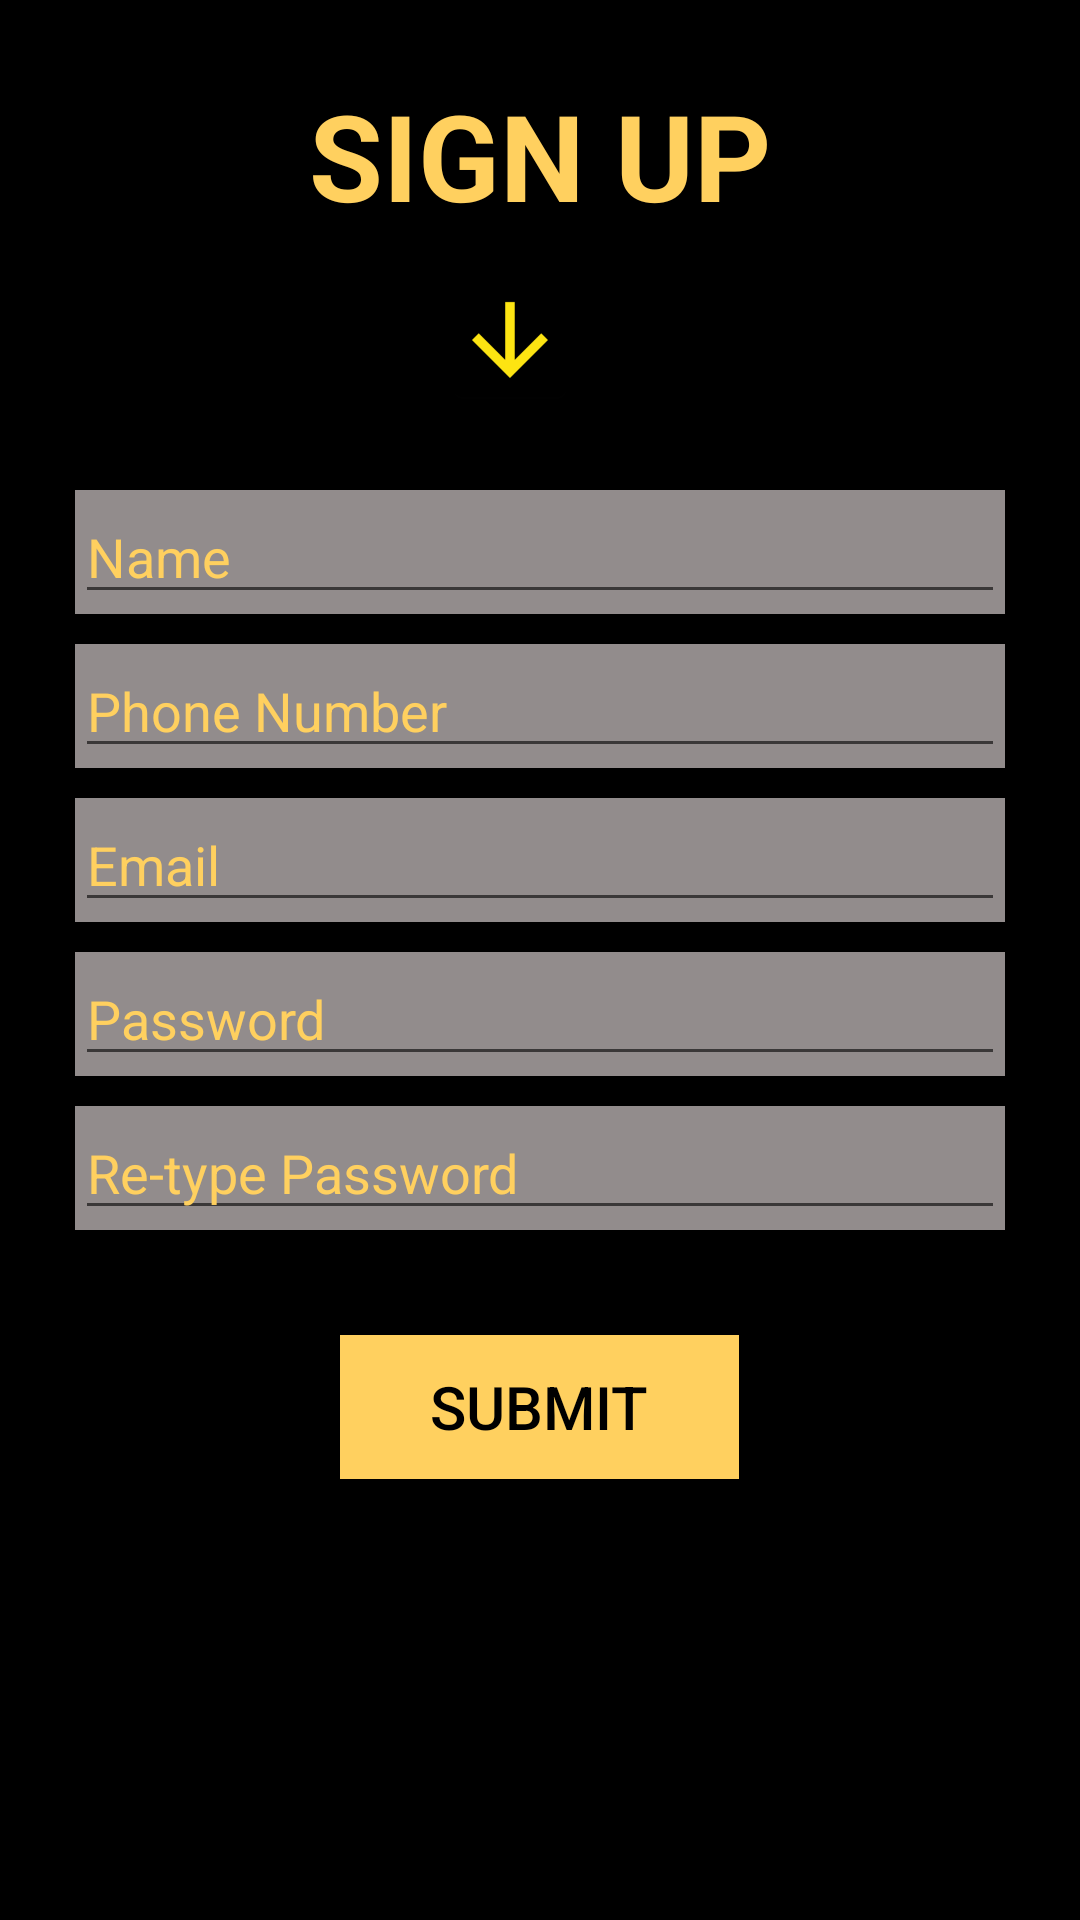

Screen size 1080*1920. Icon name, then its center in pixels as point (x, y):
downarrow: point (510, 340)
